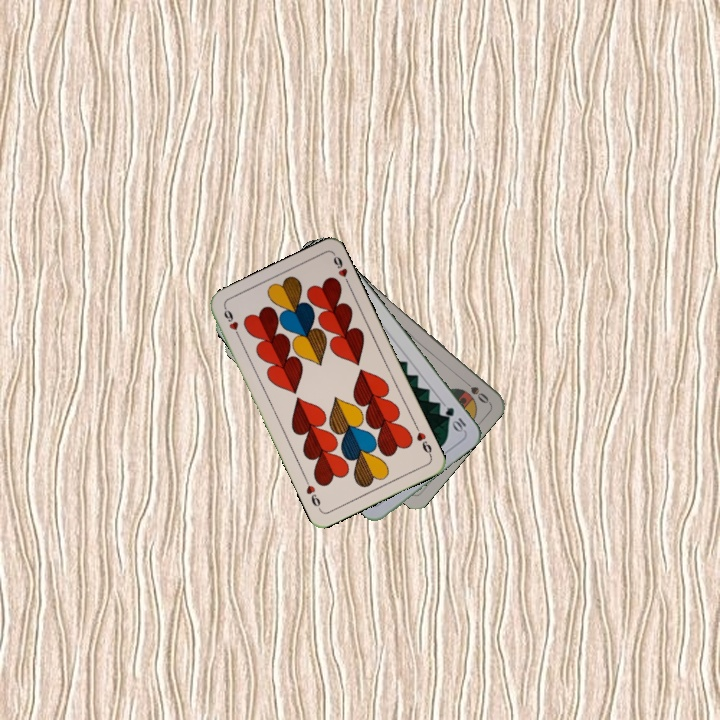G10: (441, 403, 469, 434)
H9: (219, 304, 243, 342), (411, 421, 434, 459)
SO: (458, 375, 492, 406)
